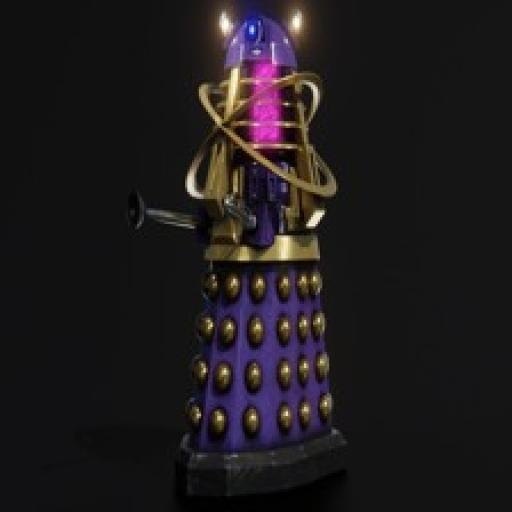dalek: (118, 7, 357, 496)
